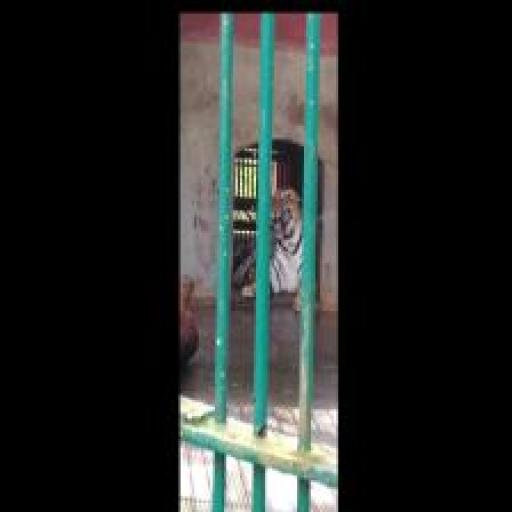Tiger: (233, 176, 320, 313)
